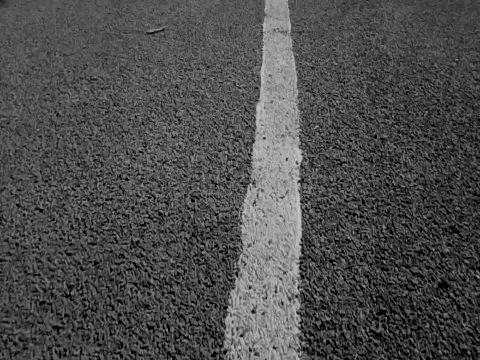Lines: (221, 0, 302, 359)
